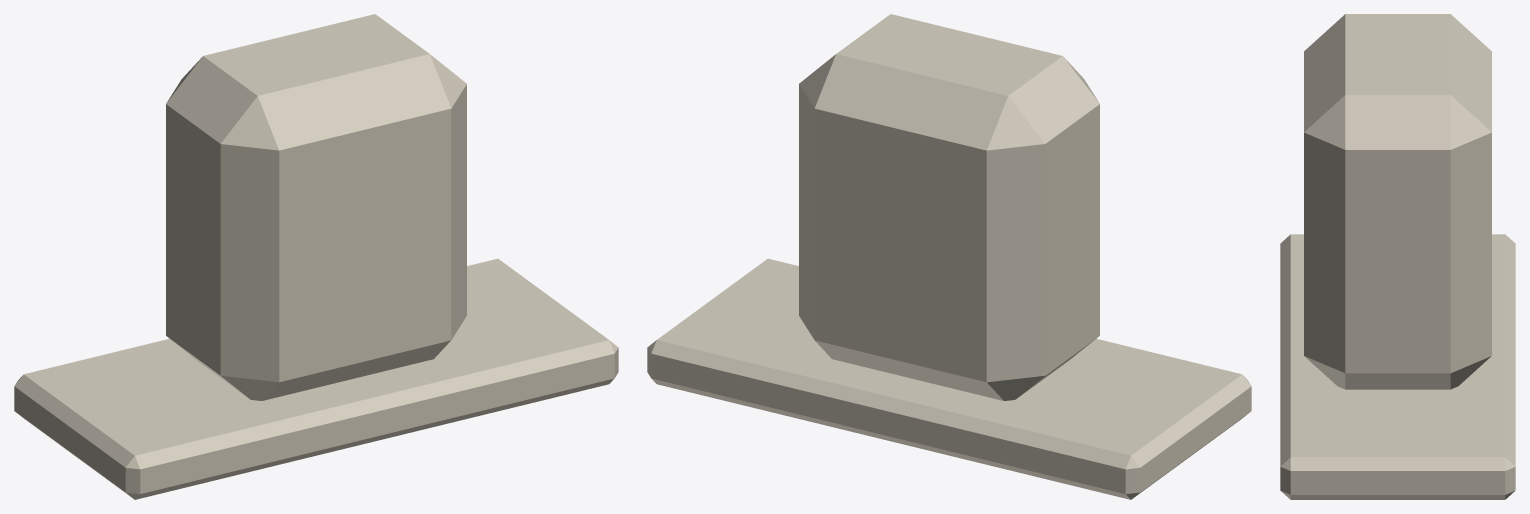
File: hats.glb
3 views of the same model, side by side, from view 1: azimuth 30°, elevation 25°; view 2: azimuth 150°, elevation 25°; view 3: azimuth 270°, elevation 25° (orthographic). The views are drawn at different scales.
Parts seen in each view (by area): view 1: hats; view 2: hats; view 3: hats.
Boxes of the visible parts, left/top/right/bottom form: hats: left=14, top=14, right=618, bottom=499; hats: left=647, top=14, right=1251, bottom=499; hats: left=1280, top=14, right=1515, bottom=499.
Bounding box in the file's own units: 0.315 × 0.2115 × 0.135.
